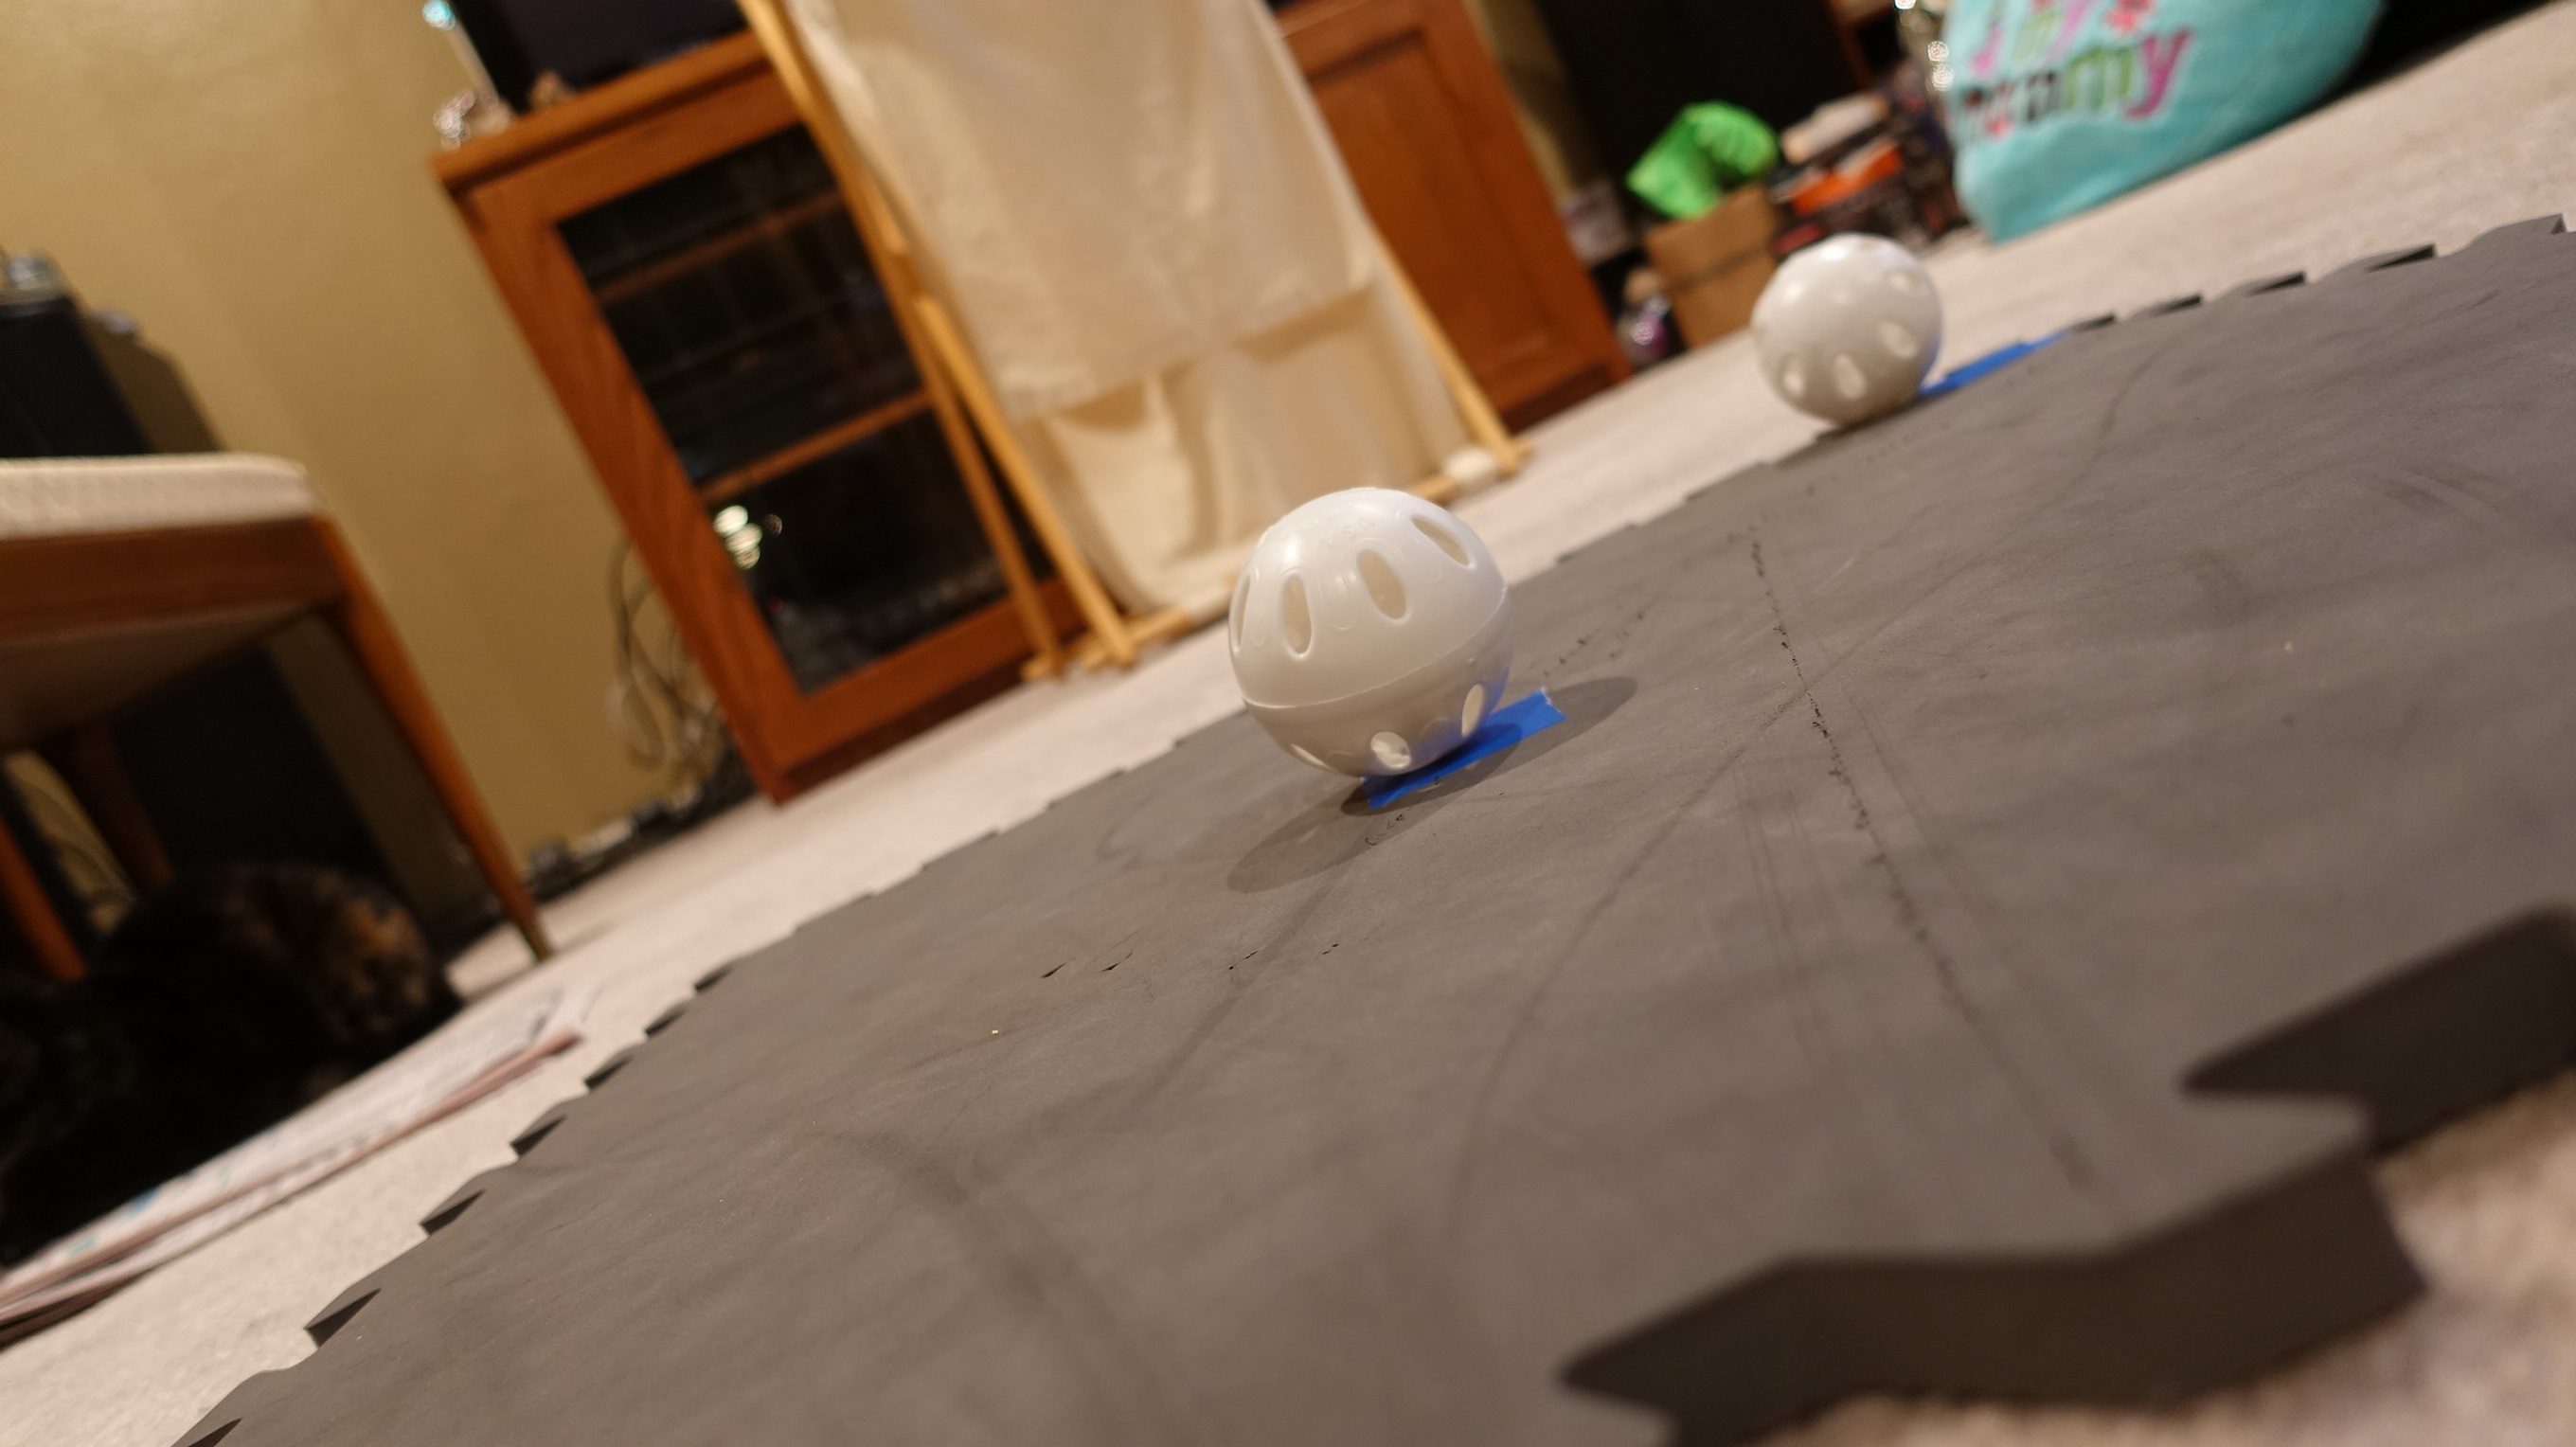silver: (1217, 472, 1546, 792), (1743, 226, 1962, 440)
